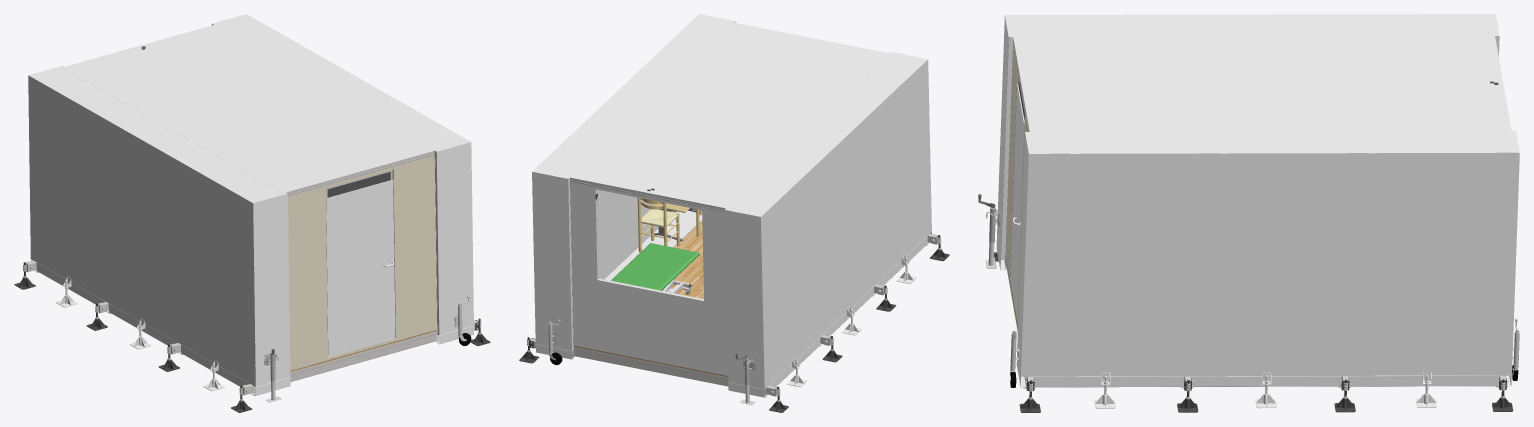
Rendered from SAPS_PORTATIL.glb.
3 renders of one model, left to right at view 1: azimuth 30°, elevation 25°; view 2: azimuth 150°, elevation 25°; view 3: azimuth 270°, elevation 25°, orthographic. The views are drawn at different scales.
Parts seen in each view (by area): view 1: SAPS_PORTATIL; view 2: SAPS_PORTATIL; view 3: SAPS_PORTATIL.
Boxes of the visible parts, left/top/right/bottom form: SAPS_PORTATIL: left=14, top=14, right=490, bottom=412; SAPS_PORTATIL: left=519, top=14, right=949, bottom=412; SAPS_PORTATIL: left=978, top=14, right=1519, bottom=412.
Bounding box in the file's own units: 4.06 × 2.9 × 5.37.
207 materials, 3 textured.
